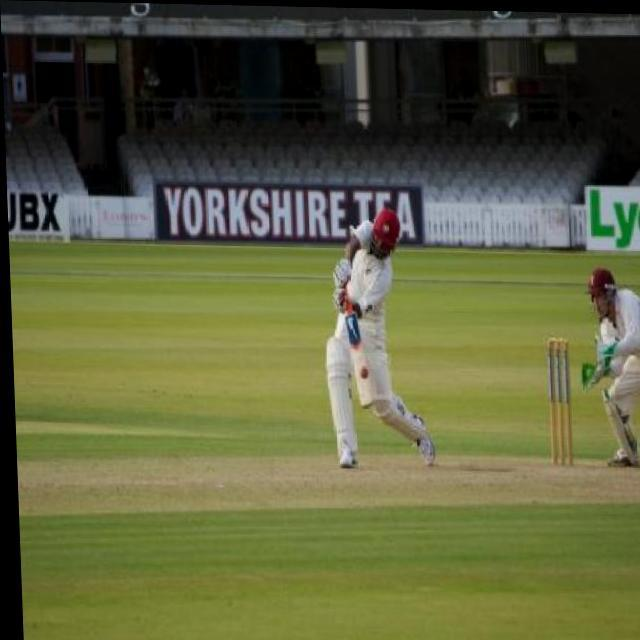-: (348, 351, 389, 398)
